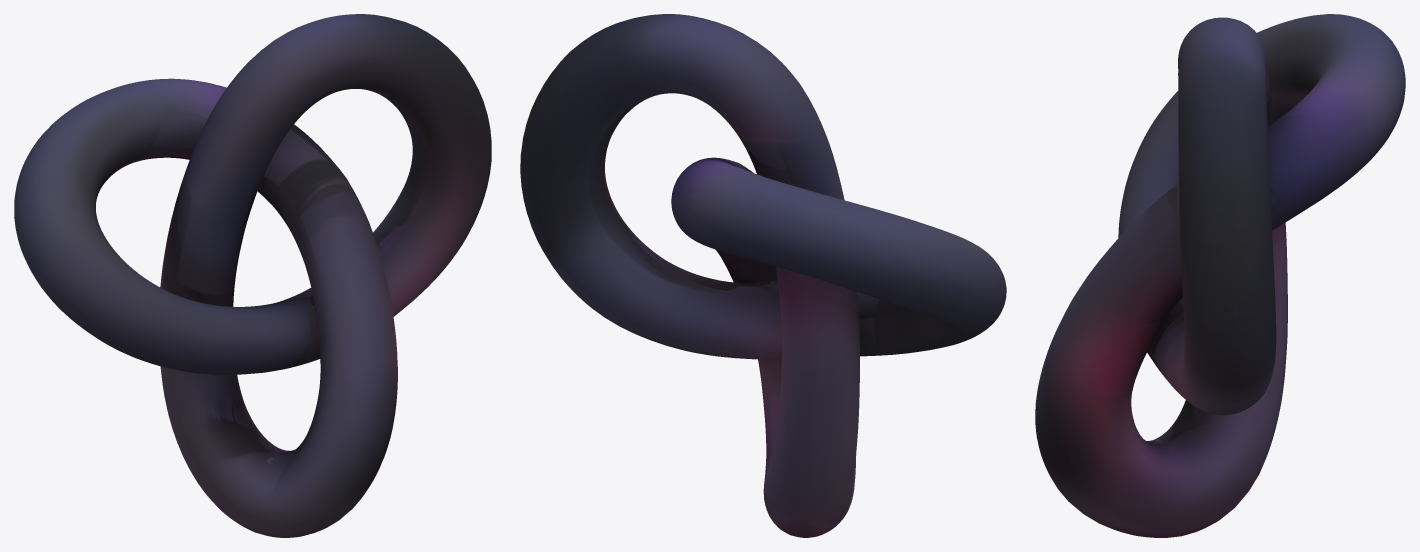
Rendered from triangle-1.glb.
3 views of the same model, side by side, from view 1: azimuth 30°, elevation 25°; view 2: azimuth 150°, elevation 25°; view 3: azimuth 270°, elevation 25° (orthographic). The views are drawn at different scales.
Parts seen in each view (by area): view 1: model; view 2: model; view 3: model.
Boxes of the visible parts, x1,y1,x2,y2 form: model: (14, 14, 491, 537); model: (520, 14, 1006, 537); model: (1035, 14, 1405, 537).
Size of the model in its own units: 1.88 by 1.9 by 1.17.
1 material, 1 textured.
